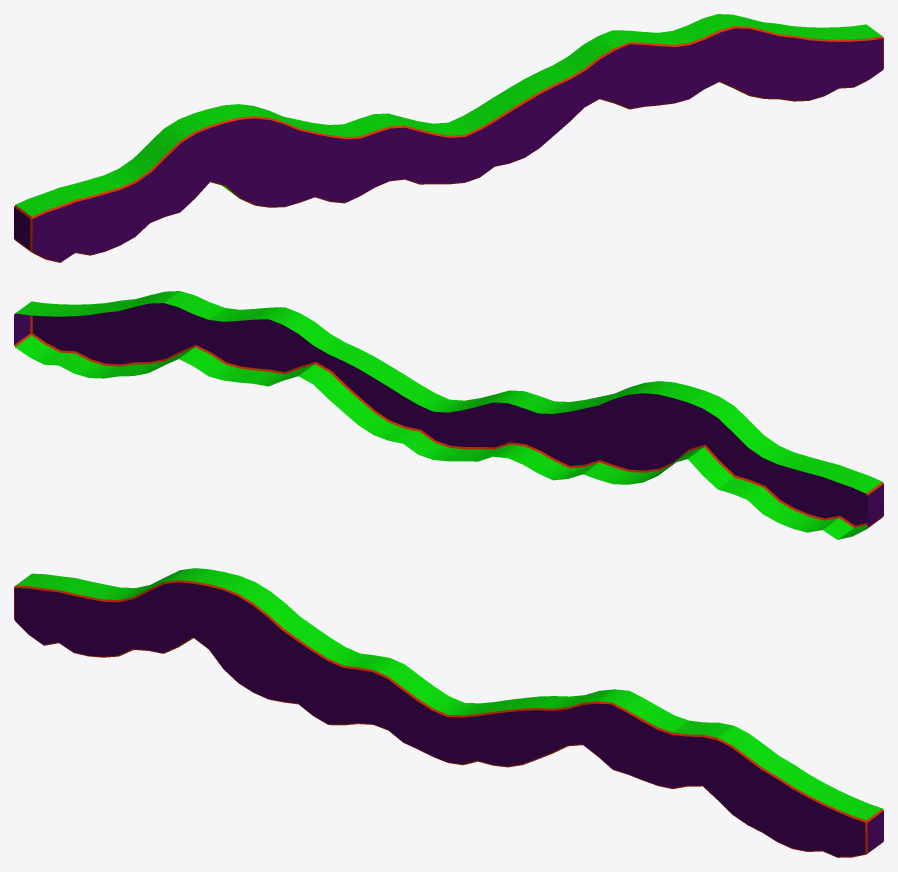
File: Floating Piece 4.fbx
3 views of the same model, one above another, from view 1: azimuth 30°, elevation 25°; view 2: azimuth 150°, elevation 25°; view 3: azimuth 330°, elevation 25° (orthographic).
Parts seen in each view (by area): view 1: Floating_piece_4; view 2: Floating_piece_4; view 3: Floating_piece_4.
Boxes of the visible parts, box(x1,y1,x2,y2) form: Floating_piece_4: box(14, 14, 883, 262); Floating_piece_4: box(14, 291, 883, 539); Floating_piece_4: box(14, 568, 883, 857).
Size of the model in its own units: 57 by 7.82 by 2.
